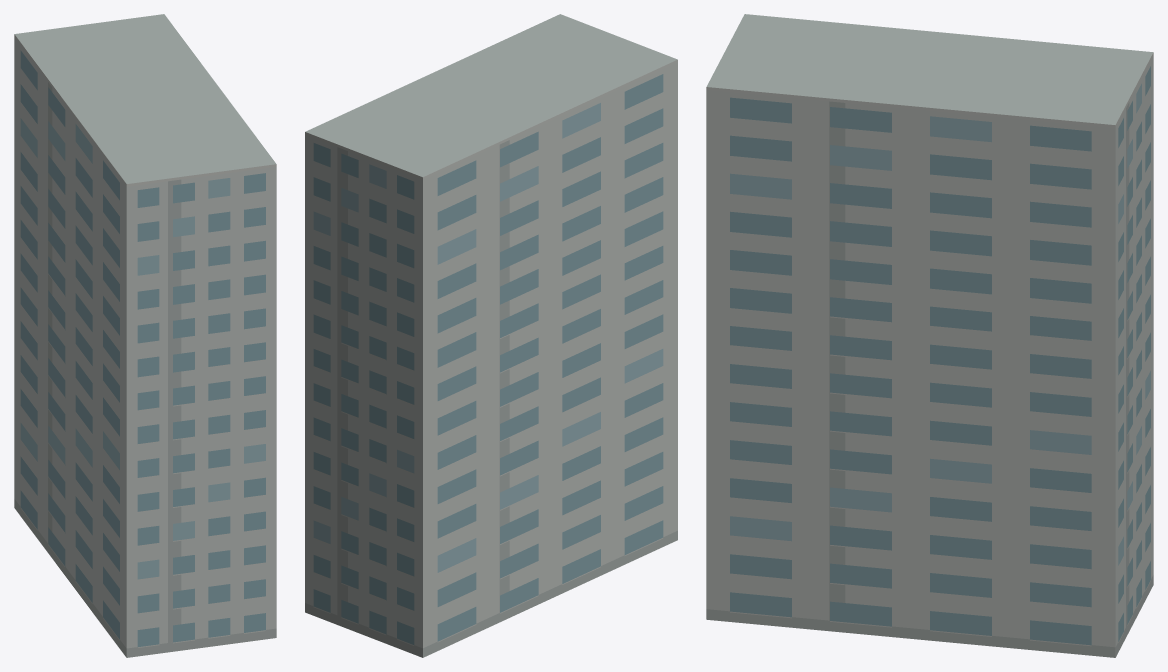
Rendered from residential-cdf67ad9-4bfe-4b78-9273-9539de1a964c.glb.
3 renders of one model, left to right at view 1: azimuth 30°, elevation 25°; view 2: azimuth 150°, elevation 25°; view 3: azimuth 270°, elevation 25°, orthographic. The views are drawn at different scales.
Visible parts, largest first — view 1: residential-cdf67ad9-4bfe-4b78-9273-9539de1a964c.tmp; view 2: residential-cdf67ad9-4bfe-4b78-9273-9539de1a964c.tmp; view 3: residential-cdf67ad9-4bfe-4b78-9273-9539de1a964c.tmp.
Boxes of the visible parts, x1,y1,x2,y2 form: residential-cdf67ad9-4bfe-4b78-9273-9539de1a964c.tmp: (14, 14, 276, 657); residential-cdf67ad9-4bfe-4b78-9273-9539de1a964c.tmp: (305, 14, 677, 657); residential-cdf67ad9-4bfe-4b78-9273-9539de1a964c.tmp: (706, 14, 1153, 657).
Size of the model in its own units: 19.25 by 43 by 32.72.
